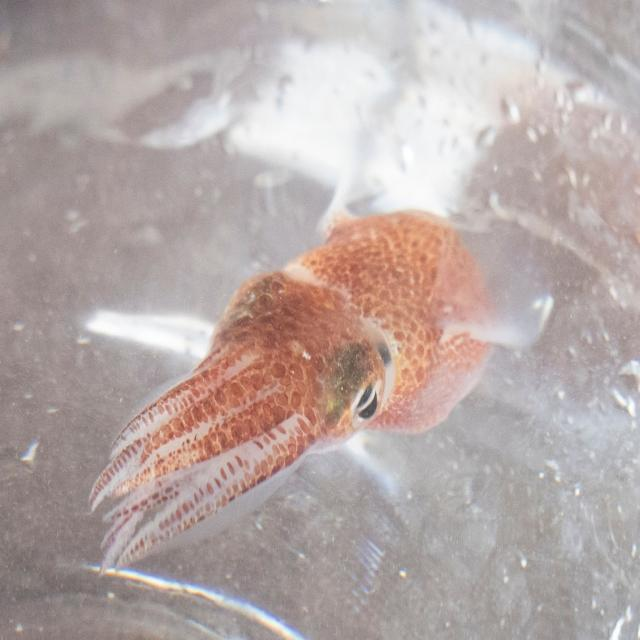squid: (89, 212, 549, 565)
